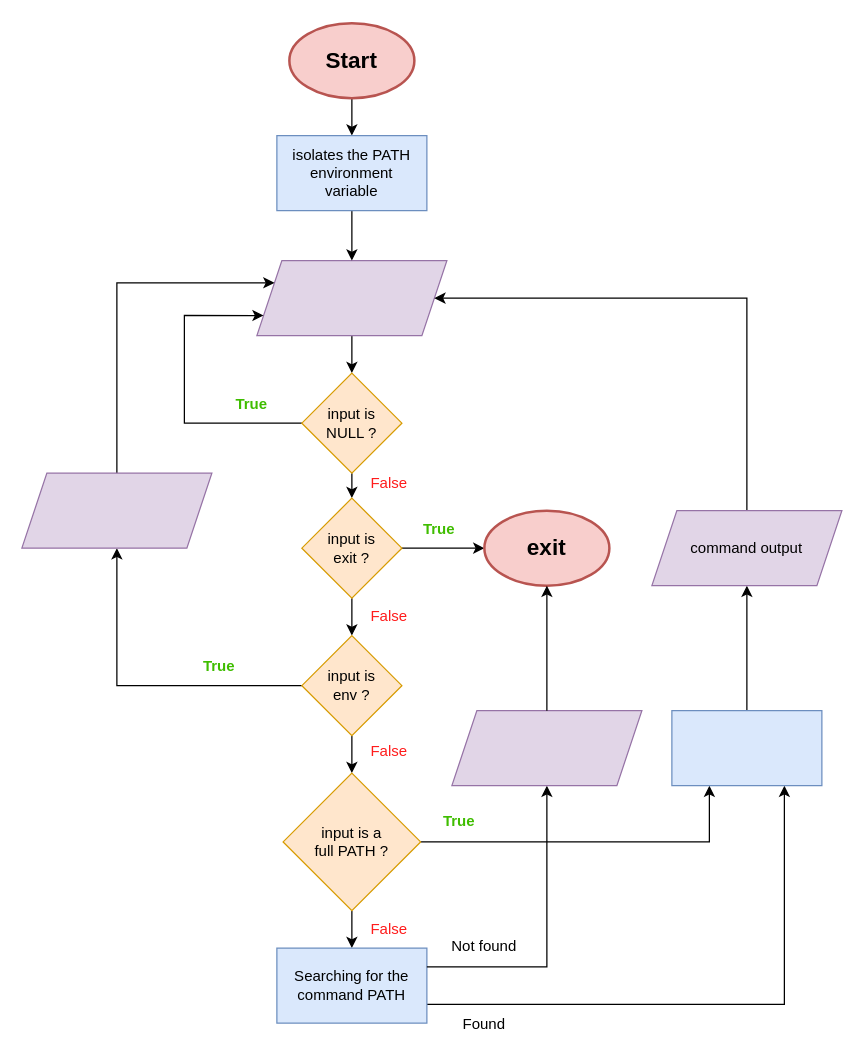
This 864x1064 diagram has some shape labels left out. Here are the shapes that lost their labels. From the top down, the centre of each, then its label:
At point (351, 297): "Get the user input".
At point (116, 510): "Display environment".
At point (546, 747): "Display error message".
At point (746, 747): "Execute user command".
